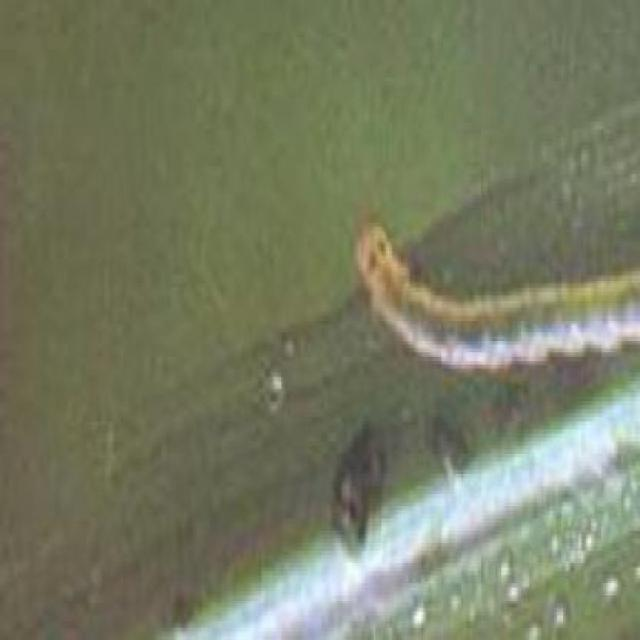leaf-folder: (357, 196, 640, 384)
